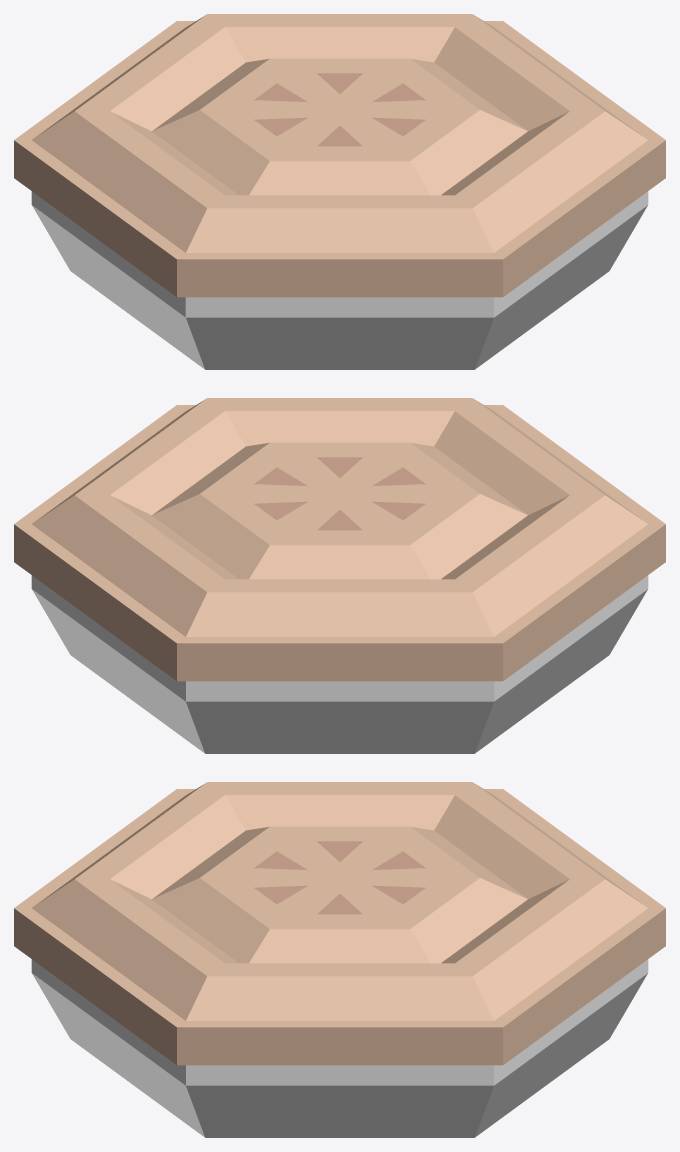
Rendered from asset.glb.
3 views of the same model, one above another, from view 1: azimuth 30°, elevation 25°; view 2: azimuth 150°, elevation 25°; view 3: azimuth 270°, elevation 25° (orthographic).
Visible parts, largest first — view 1: mincemeatPie; view 2: mincemeatPie; view 3: mincemeatPie.
Boxes of the visible parts, <box> form: mincemeatPie: <box>14,14,665,369</box>; mincemeatPie: <box>14,398,665,753</box>; mincemeatPie: <box>14,782,665,1137</box>.
Bounding box in the file's own units: 0.5309 × 0.1673 × 0.6131.
